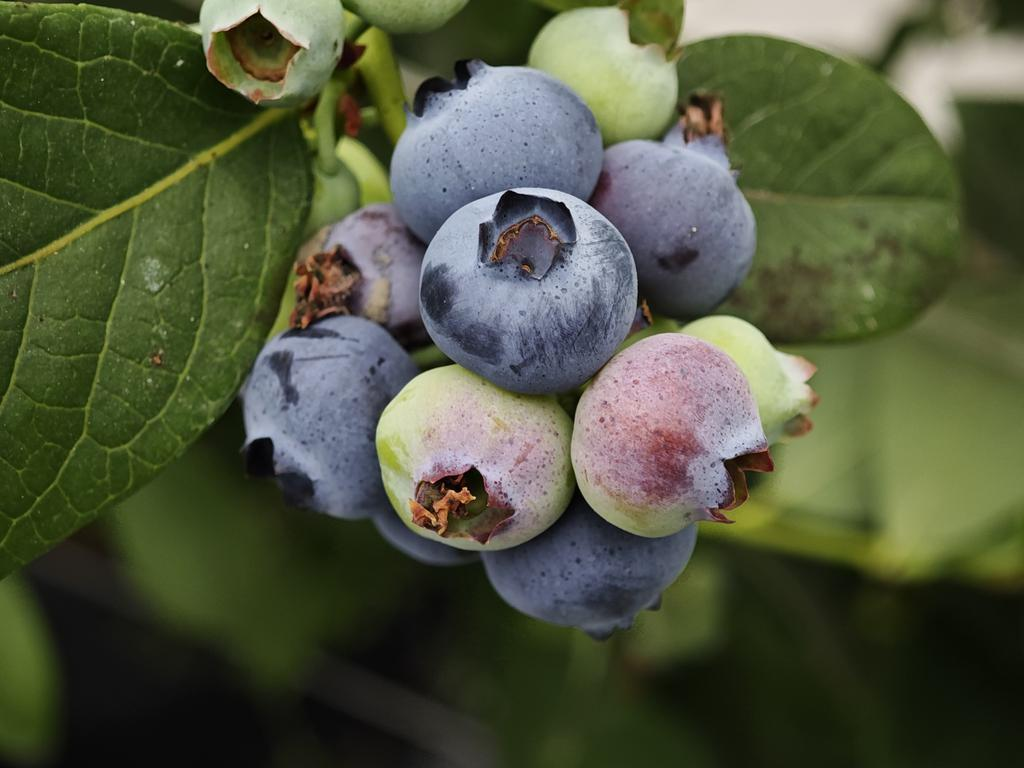RipeBlueBerry: (422, 190, 639, 387), (391, 67, 604, 226)
Semi-RipeBlueBerry: (577, 331, 767, 530), (379, 377, 577, 560)
